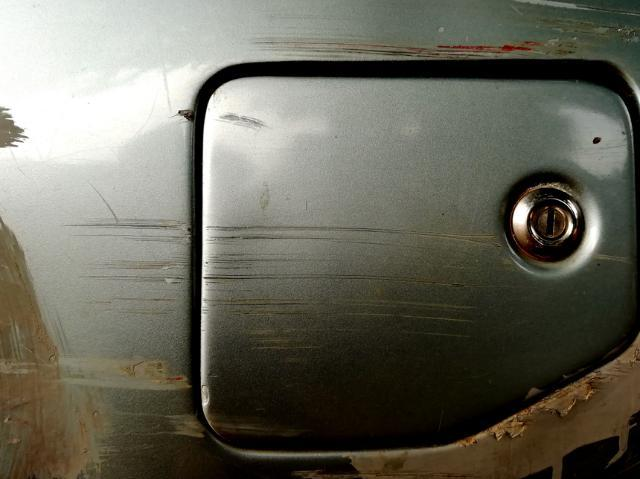Fender: (35, 11, 640, 475)
